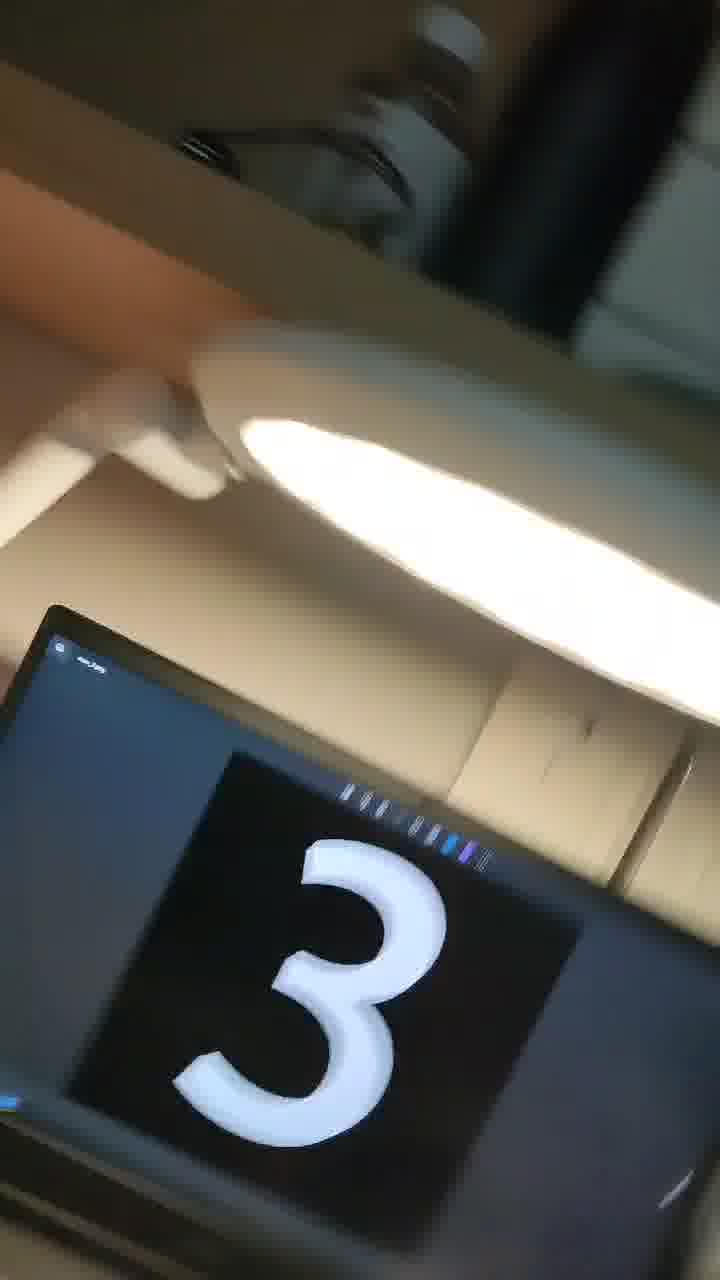three: (166, 776, 558, 1204)
